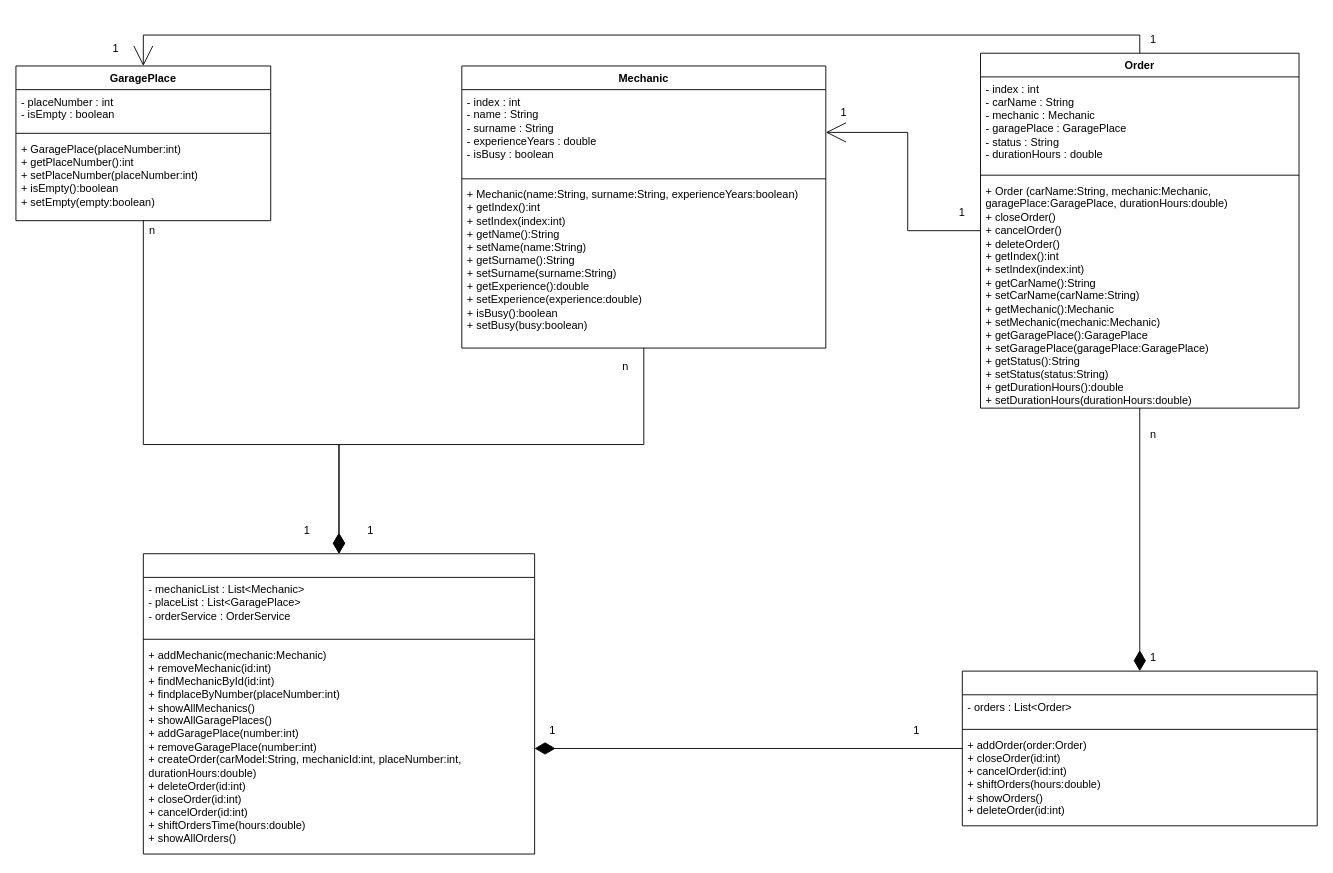
The diagram is 1333 pixels wide and 873 high, and some of its shapes have lost their labels. The box of each missing label's shape, as (x1, y1, x2, y2) in pixels:
AutoService: (142, 553, 535, 854)
OrderService: (961, 670, 1317, 826)
